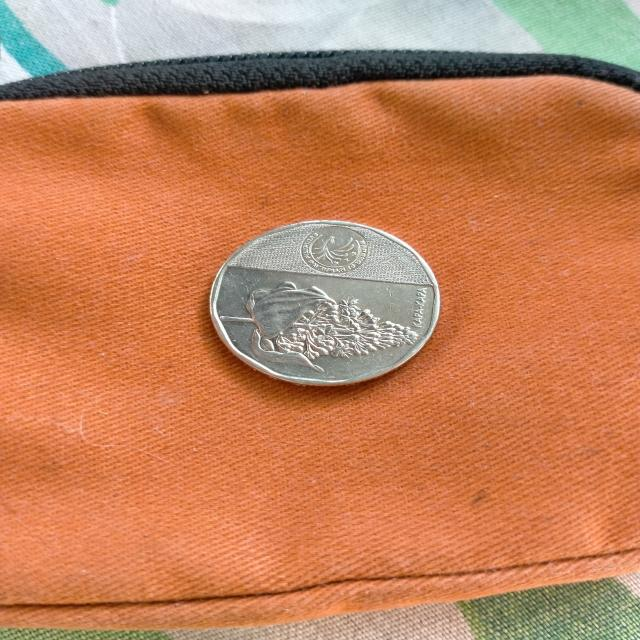10_New_Back: (212, 282, 428, 378)
